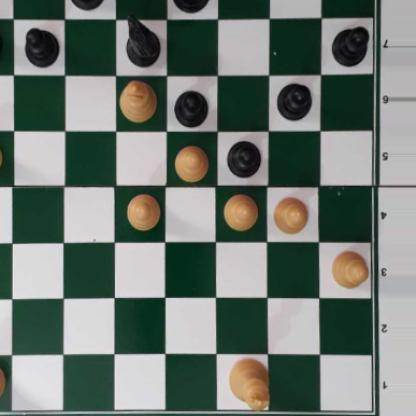black-king: (169, 0, 211, 13)
black-knight: (121, 14, 159, 65)
black-pawn: (330, 24, 370, 66), (171, 86, 207, 127), (24, 26, 59, 68), (276, 79, 312, 119), (227, 138, 261, 178), (0, 18, 2, 62)
black-rook: (63, 0, 106, 10)
white-bishop: (118, 77, 157, 124)
white-king: (227, 355, 269, 410)
white-pawn: (330, 248, 370, 290), (272, 194, 310, 235), (171, 144, 210, 182), (221, 191, 257, 231), (125, 193, 160, 229), (0, 138, 1, 176)
white-rook: (0, 361, 4, 409)
